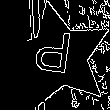P_S: (37, 30, 80, 84)
